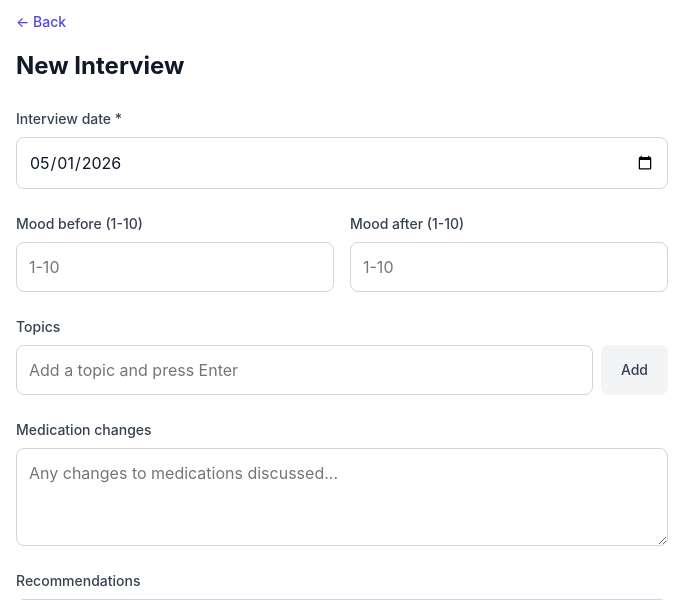
Test: InterviewFormView › removes topic when remove button clicked
Type "anxiety" into the field with id "topic-input" at (304, 370), box x1=16 y1=345 x2=593 y2=395
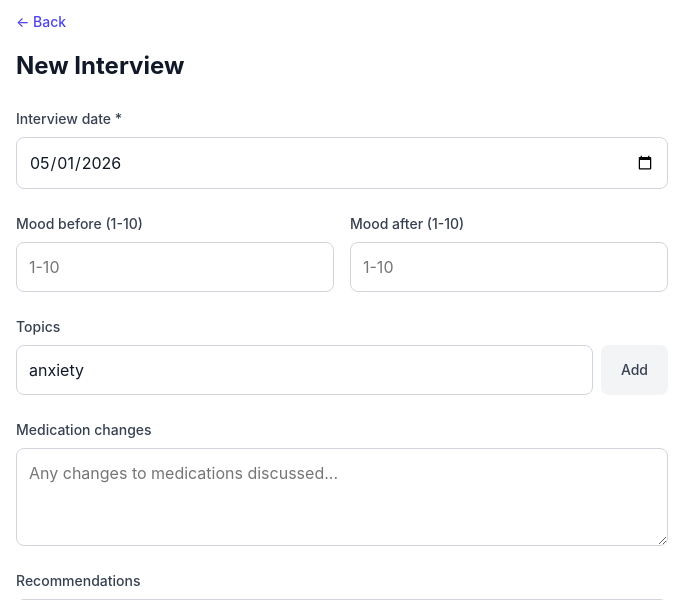
Click the button "Add" at (634, 370), box x1=601 y1=345 x2=668 y2=395
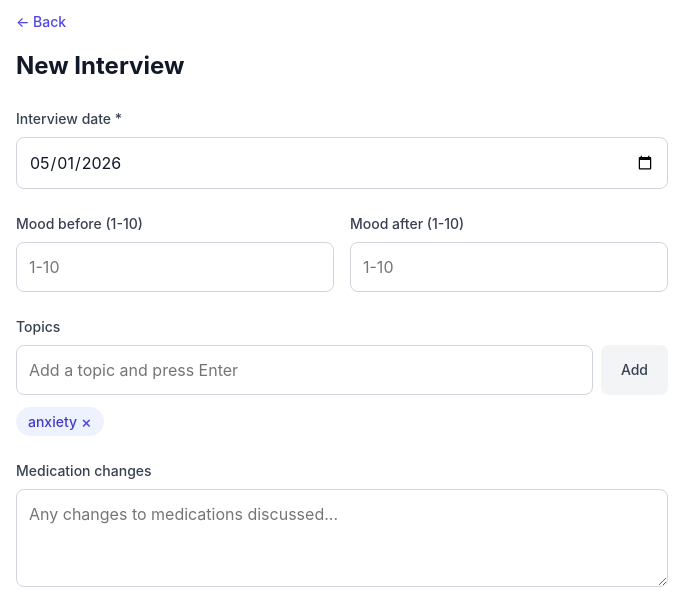
Result: the number of elements with class "topic-chip" is 1 at x1=16 y1=407 x2=104 y2=436
Click the button with class "chip-remove" at (86, 422), box x1=81 y1=414 x2=92 y2=430
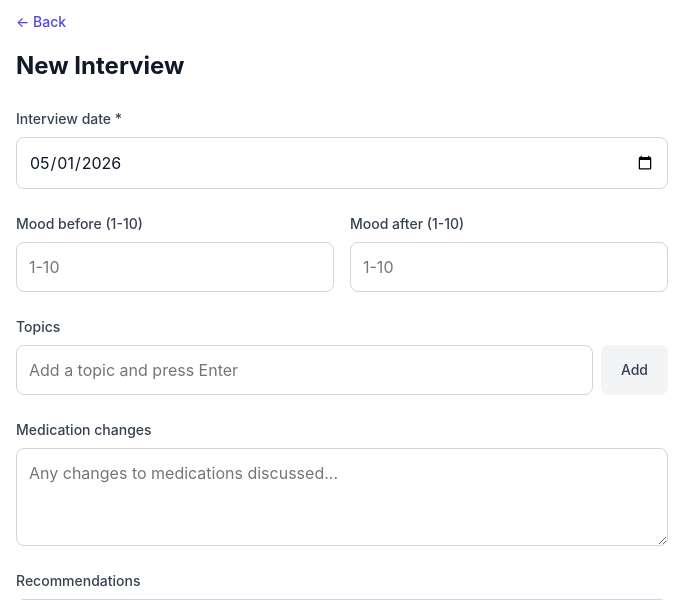
Result: no elements with class "topic-chip" are shown
